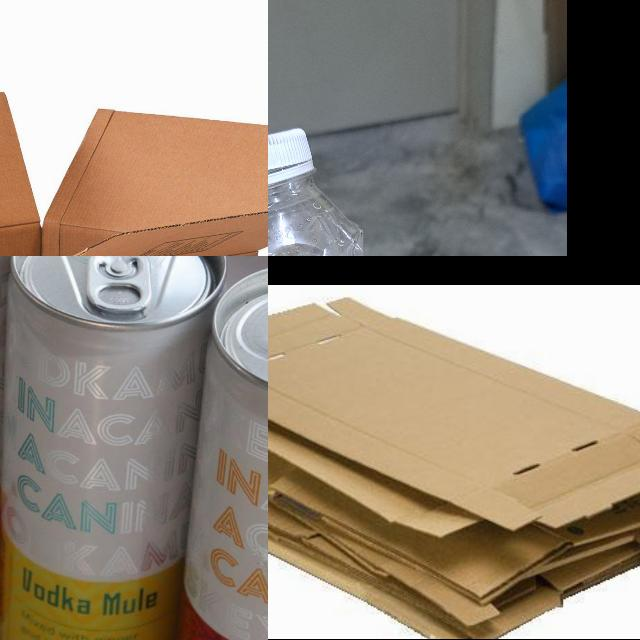aba de lata: (88, 256, 150, 315)
garrafa plástica: (0, 92, 268, 256)
lata: (4, 256, 227, 640), (191, 256, 268, 640)
papelão: (268, 296, 640, 639)
sacola plástica: (524, 56, 566, 210)
tampa plástica: (268, 128, 319, 185)
